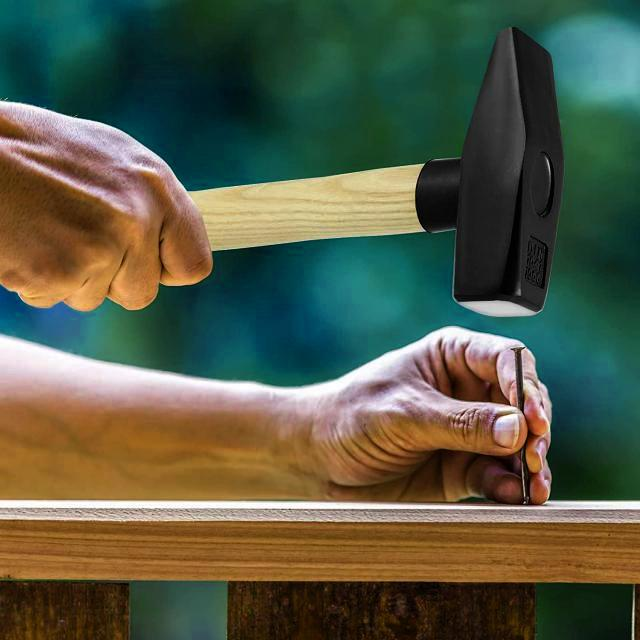hammer: (135, 19, 573, 325)
